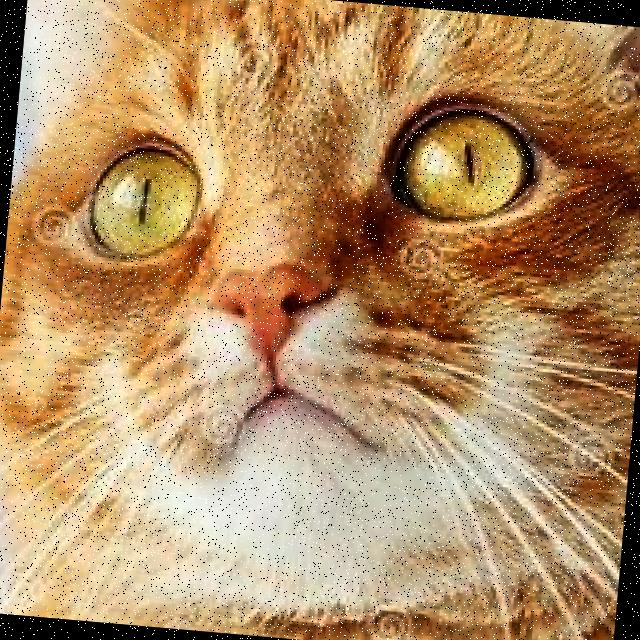Surprised: (24, 49, 573, 518)
